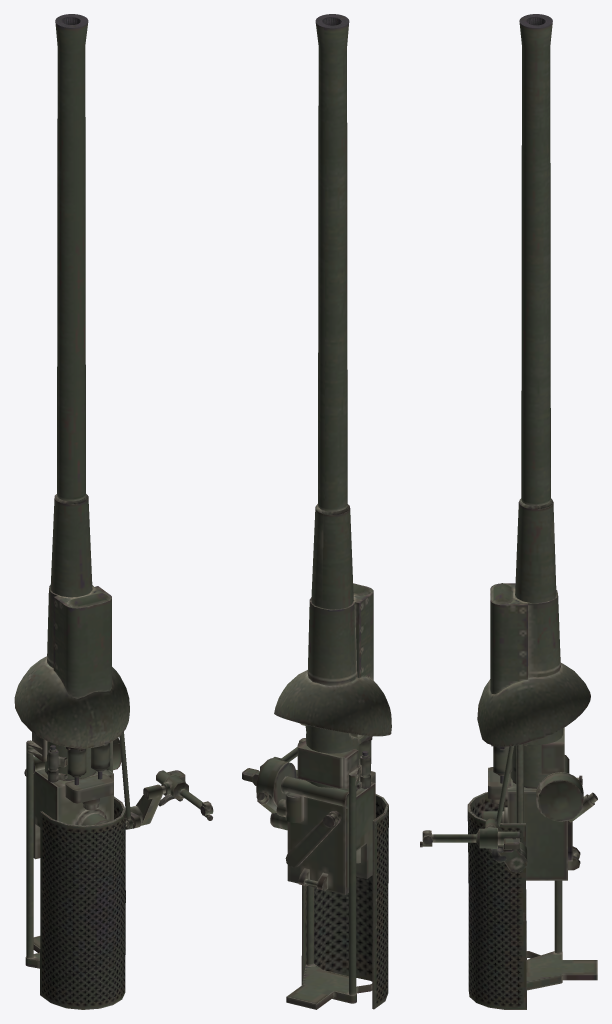
Rendered from Gun_02.glb.
3 renders of one model, left to right at view 1: azimuth 30°, elevation 25°; view 2: azimuth 150°, elevation 25°; view 3: azimuth 270°, elevation 25°, orthographic. The views are drawn at different scales.
Visible parts, largest first — view 1: set_0_group_0; view 2: set_0_group_0; view 3: set_0_group_0.
Part boxes in pixels (x1,y1,x2,y2): set_0_group_0: [14, 14, 213, 1009]; set_0_group_0: [242, 14, 391, 1009]; set_0_group_0: [420, 14, 597, 1009].
Size of the model in its own units: 0.7034 by 4.32 by 0.7178.
Materials: 1 (1 with a texture image).
